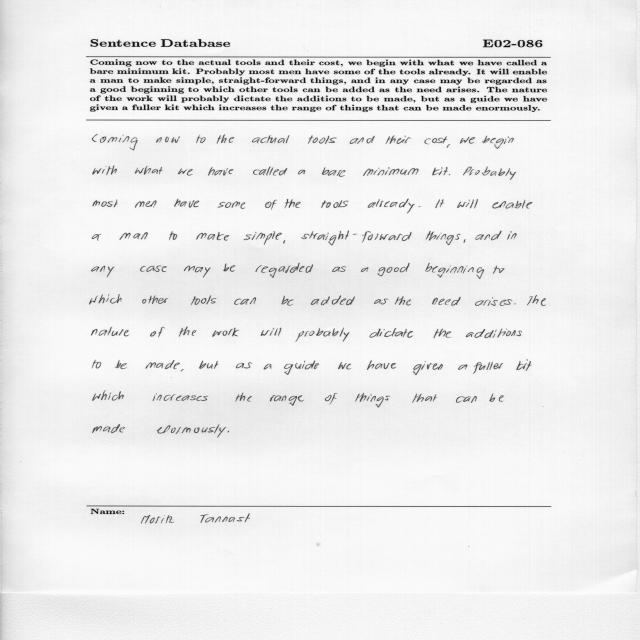word: (301, 231, 412, 245), (425, 263, 484, 279), (157, 425, 226, 438), (256, 263, 313, 278), (296, 327, 350, 342), (463, 166, 516, 180), (92, 135, 138, 151), (368, 199, 415, 213), (244, 231, 282, 245), (284, 360, 319, 375), (466, 329, 522, 338), (364, 167, 419, 176), (426, 231, 461, 245), (355, 393, 390, 407), (153, 393, 209, 401), (311, 296, 355, 306), (370, 328, 413, 338), (377, 263, 410, 276), (413, 361, 443, 375), (482, 136, 514, 149), (270, 395, 304, 406), (493, 200, 533, 209), (473, 362, 503, 374), (92, 327, 130, 336), (252, 135, 289, 144), (475, 297, 512, 306), (184, 266, 211, 278), (90, 295, 122, 305), (145, 360, 180, 369), (93, 391, 124, 401), (253, 167, 287, 176), (196, 232, 229, 241), (367, 360, 396, 370), (308, 135, 337, 144), (93, 425, 125, 433), (92, 266, 115, 277), (191, 295, 216, 305), (475, 231, 502, 240), (213, 328, 240, 337), (119, 232, 148, 240), (432, 297, 461, 305), (322, 167, 345, 177), (208, 167, 233, 176), (174, 199, 199, 208), (412, 394, 437, 403), (135, 166, 163, 174), (321, 200, 349, 208), (93, 166, 117, 175), (218, 201, 245, 209), (527, 295, 546, 306), (142, 296, 168, 304), (350, 136, 375, 144), (386, 136, 411, 144), (93, 200, 118, 208), (457, 199, 478, 208), (425, 137, 448, 145), (217, 134, 235, 144), (261, 328, 281, 337), (234, 297, 256, 305), (516, 360, 532, 371), (179, 327, 196, 337), (156, 136, 180, 143), (135, 200, 156, 208), (150, 327, 165, 338), (140, 266, 167, 272), (434, 329, 452, 338), (395, 296, 411, 306), (284, 199, 301, 208), (235, 393, 252, 402), (199, 361, 218, 369), (456, 396, 477, 403), (325, 393, 337, 405), (489, 393, 504, 402), (281, 296, 294, 306), (433, 167, 448, 175), (265, 200, 277, 210), (223, 263, 235, 272), (115, 360, 127, 369), (460, 137, 475, 144), (178, 169, 193, 176), (338, 362, 351, 370), (493, 265, 504, 274), (236, 363, 252, 369), (507, 231, 517, 240), (332, 266, 346, 272), (374, 299, 388, 305), (436, 199, 445, 208), (196, 135, 206, 143), (169, 231, 177, 240), (92, 360, 101, 368), (92, 234, 101, 241), (458, 364, 467, 370), (264, 364, 272, 370), (361, 267, 368, 272), (298, 170, 305, 174), (447, 144, 450, 148), (464, 239, 466, 243), (283, 240, 285, 243), (181, 369, 184, 371), (227, 431, 229, 433), (418, 206, 421, 207), (449, 174, 451, 175), (514, 304, 516, 305)
